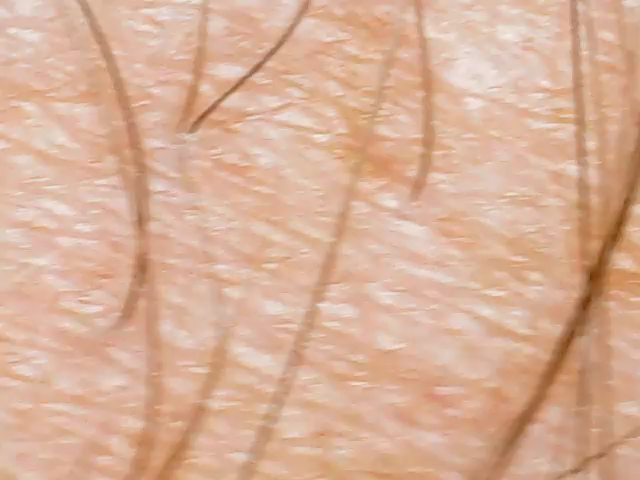folicle: (400, 186, 425, 210), (111, 309, 138, 331), (167, 117, 190, 141), (182, 122, 208, 142)
